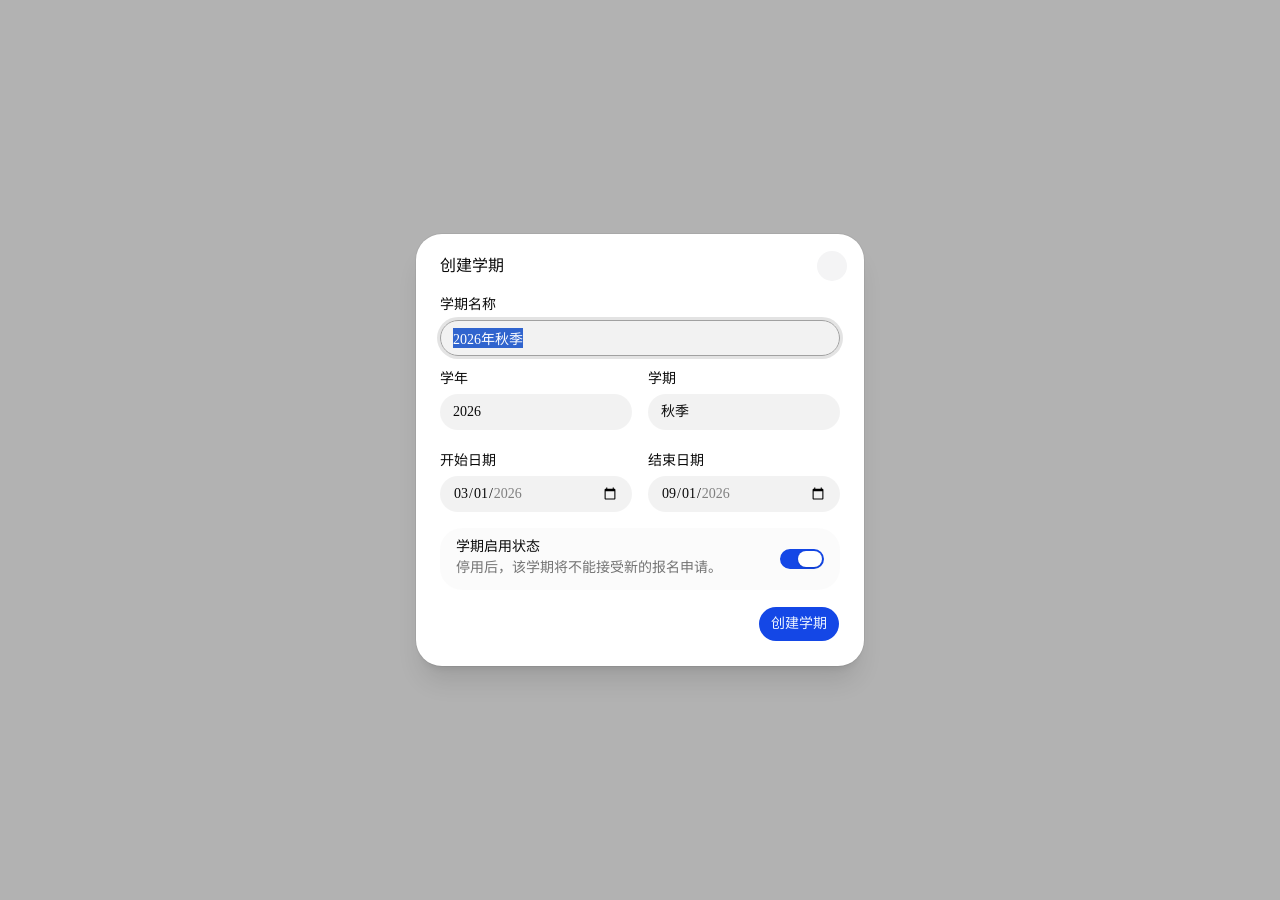
Scenario: SemesterFormDialog › recomputes the generated name and template dates when term or year changes
Click the dropdown named "学期".
click(744, 412)  # box [648,394,840,430]
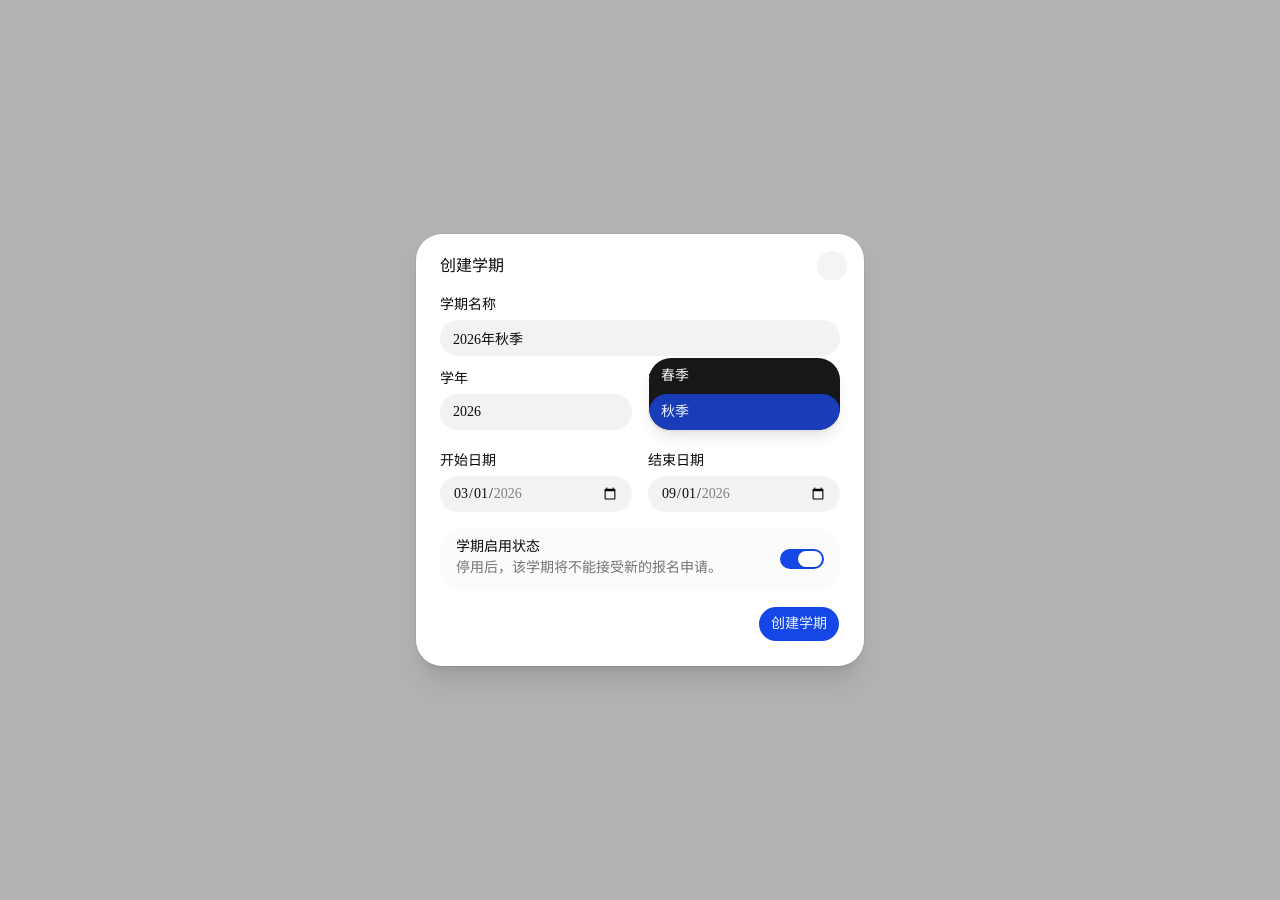
Click the option "春季".
click(675, 376)  # box [661,368,689,383]
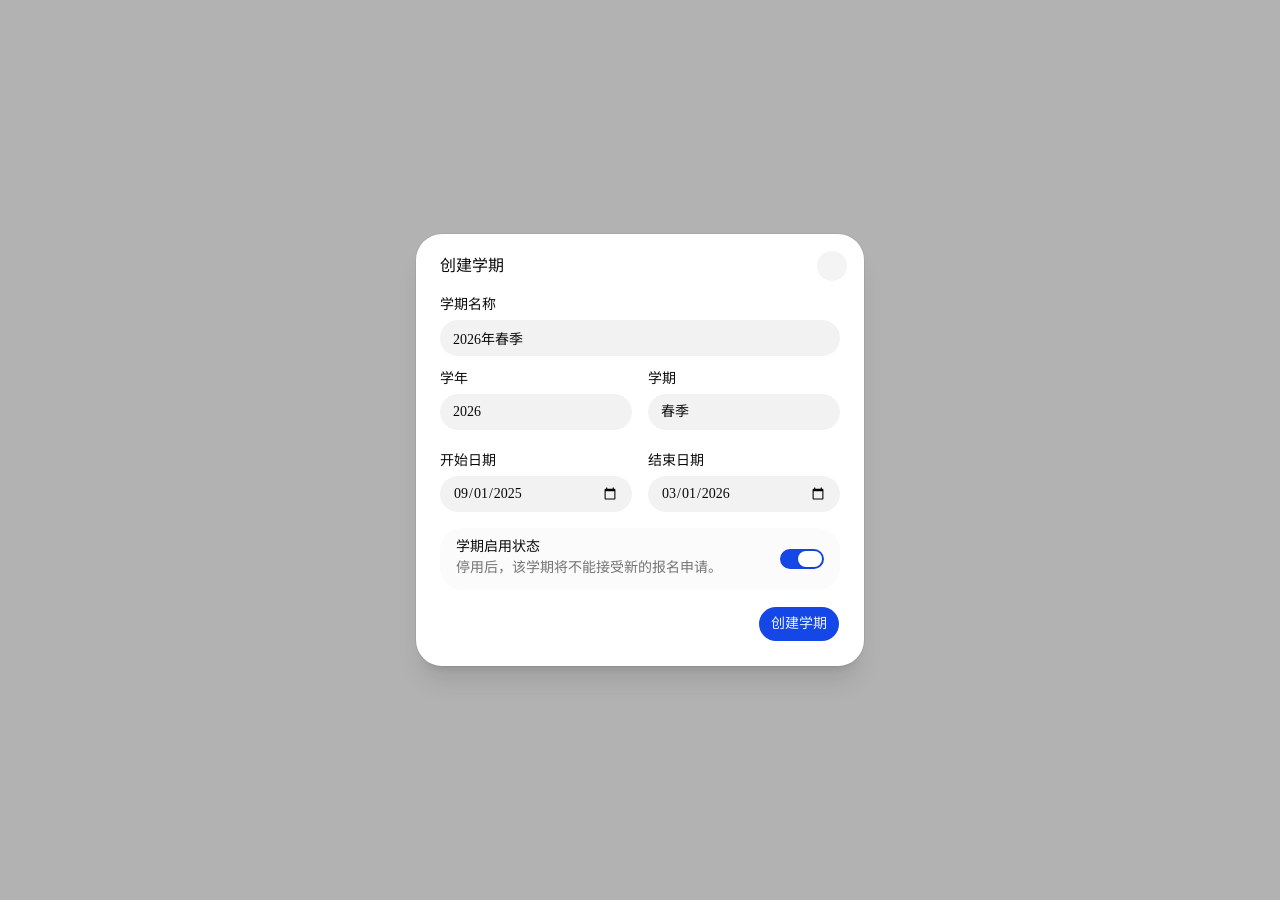
Now the field labelled "学期名称" holds "2026年春季", box [440,320,840,356]
Now the date field labelled "开始日期" holds "2025-09-01", box [440,476,632,512]
Now the date field labelled "结束日期" holds "2026-03-01", box [648,476,840,512]
Click the dropdown named "学年".
click(536, 412)  # box [440,394,632,430]
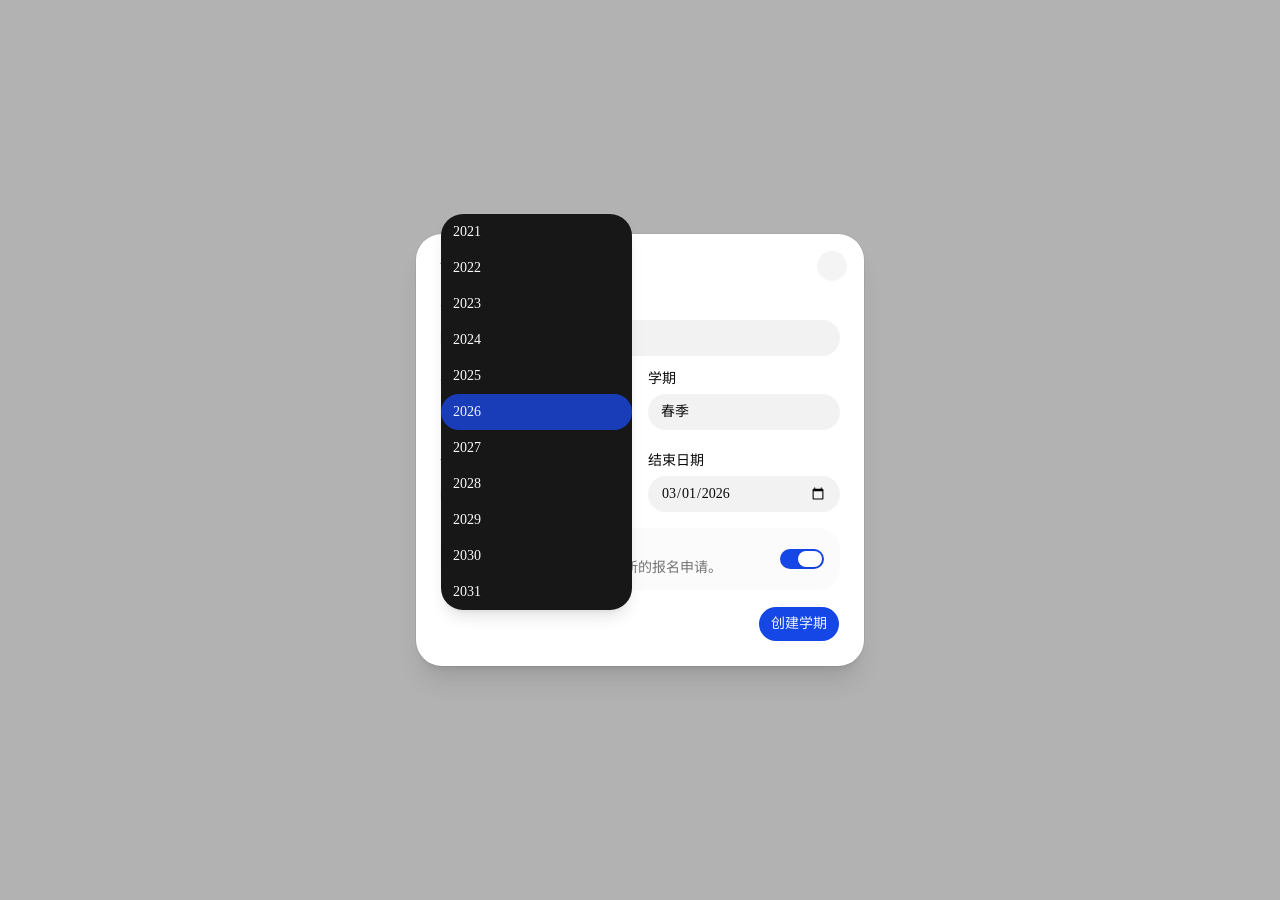
Click the option "2027".
click(467, 448)  # box [453,440,481,455]
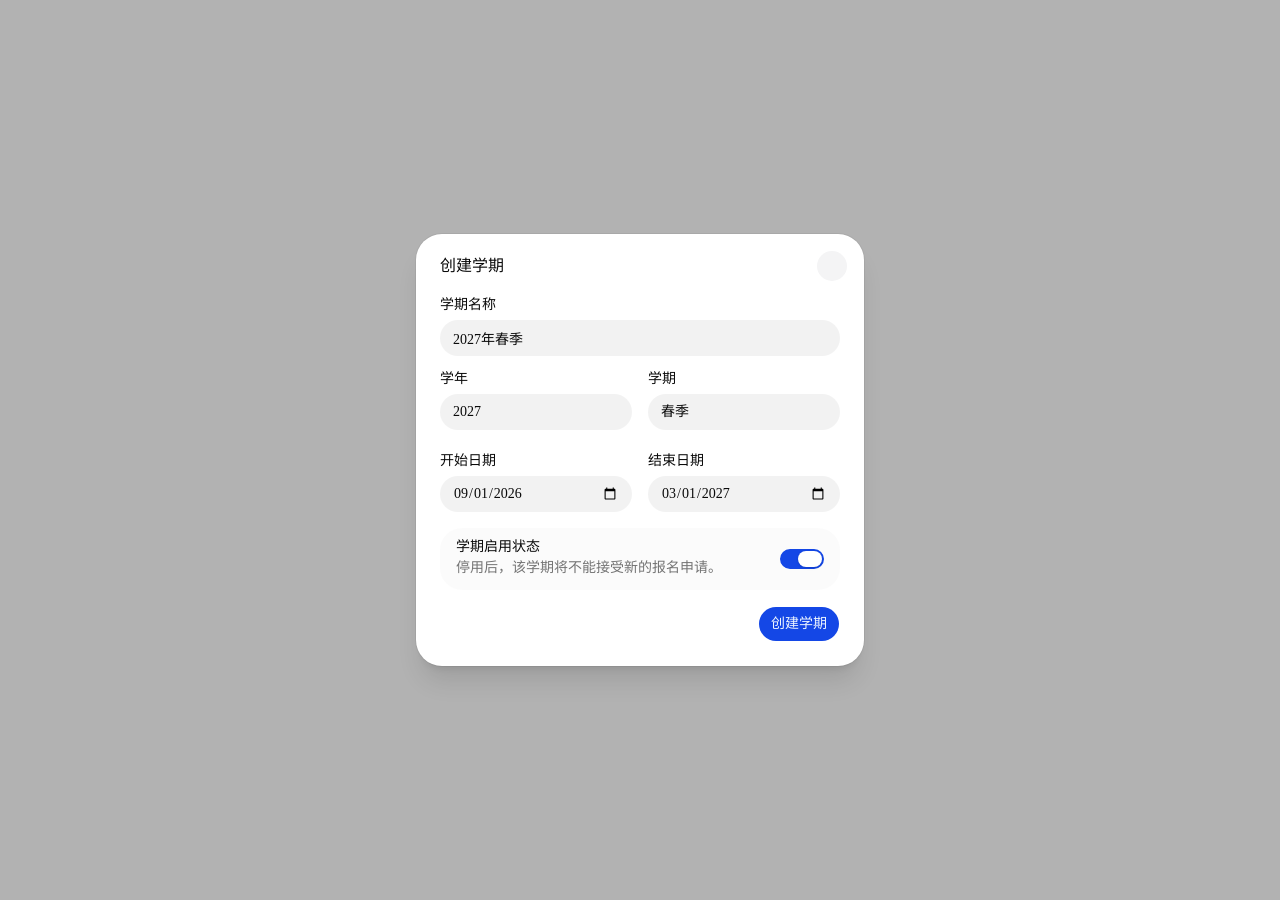
Now the field labelled "学期名称" holds "2027年春季", box [440,320,840,356]
Now the date field labelled "开始日期" holds "2026-09-01", box [440,476,632,512]
Now the date field labelled "结束日期" holds "2027-03-01", box [648,476,840,512]
